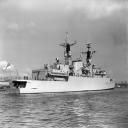Fragata: (6, 31, 118, 97)
